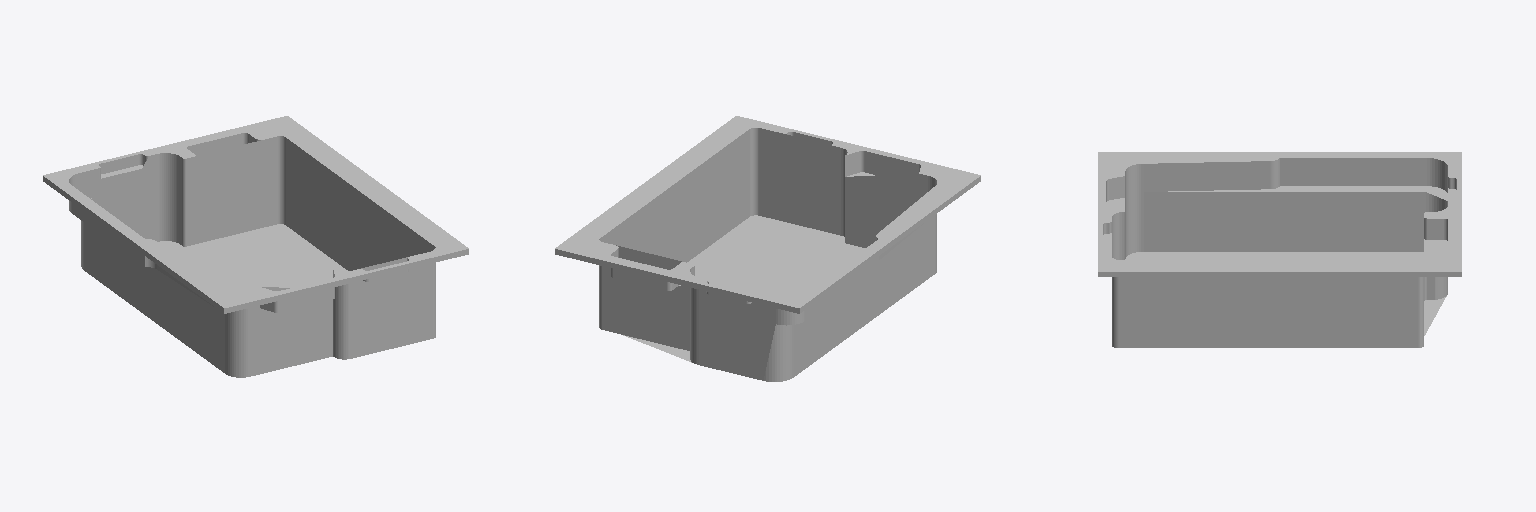
File: LASERTA BLANCA.obj
3 views of the same model, side by side, from view 1: azimuth 30°, elevation 25°; view 2: azimuth 150°, elevation 25°; view 3: azimuth 270°, elevation 25° (orthographic).
Visible parts, largest first — view 1: Mesh1 Group1 Model; view 2: Mesh1 Group1 Model; view 3: Mesh1 Group1 Model.
Boxes of the visible parts, <box> form: Mesh1 Group1 Model: <box>43,116,468,377</box>; Mesh1 Group1 Model: <box>555,116,980,381</box>; Mesh1 Group1 Model: <box>1098,152,1461,347</box>.
Bounding box in the file's own units: 140 × 48 × 180.